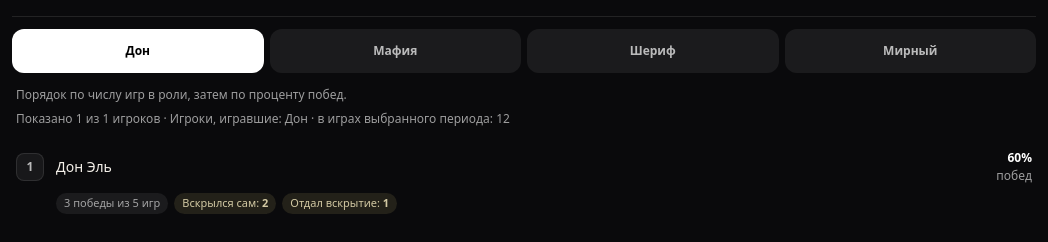
role tables › lists the Dons with their reveal figures and switches the role
Expected: the button with test id "role-row-p1" shows "Дон Эль", x1=12 y1=137 x2=1036 y2=226
Expected: the button with test id "role-row-p1" shows "5 игр", x1=12 y1=137 x2=1036 y2=226
Click the tab with test id "role-tab-mafia" at (395, 51), box x1=270 y1=29 x2=521 y2=73
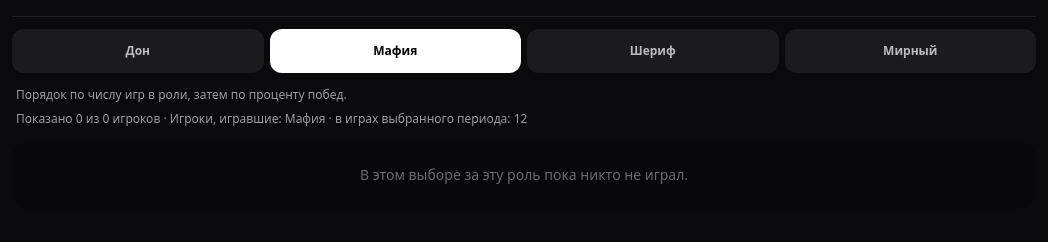
Now the text "В этом выборе за эту роль пока никто не играл." is shown, box x1=12 y1=141 x2=1036 y2=209
